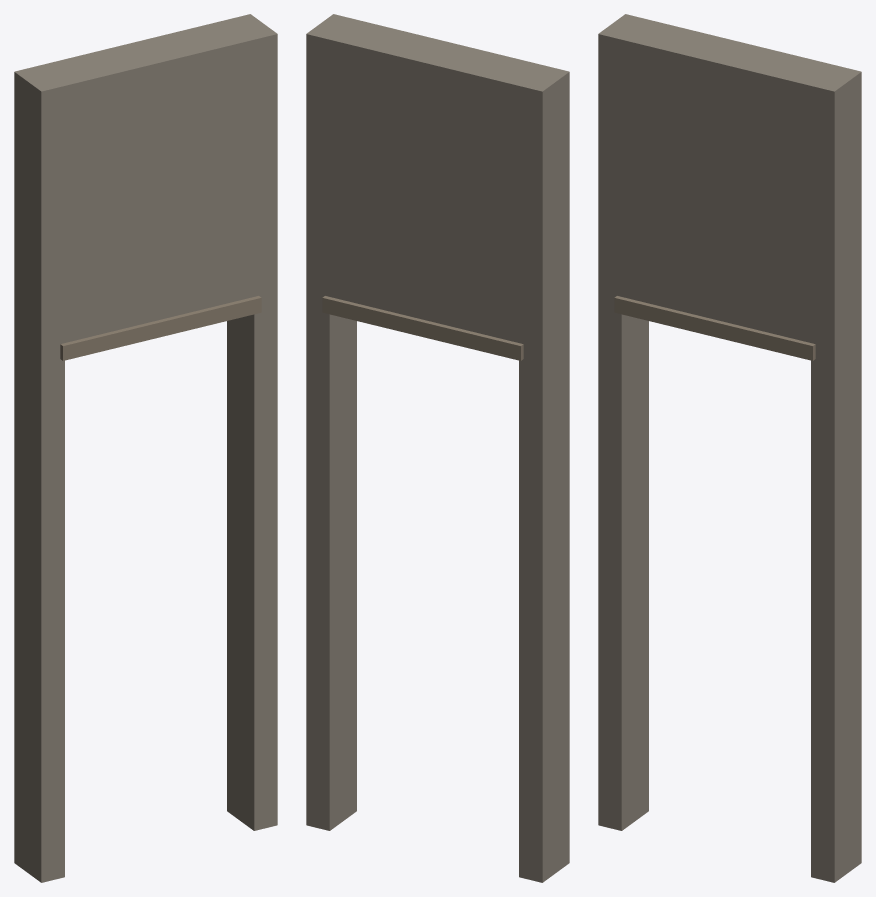
File: interior_doorway.glb
3 renders of one model, left to right at view 1: azimuth 30°, elevation 25°; view 2: azimuth 150°, elevation 25°; view 3: azimuth 330°, elevation 25°, orthographic.
Visible parts, largest first — view 1: interior_doorway; view 2: interior_doorway; view 3: interior_doorway.
Boxes of the visible parts, bbox=[...] form: interior_doorway: bbox=[14, 14, 277, 882]; interior_doorway: bbox=[306, 14, 569, 882]; interior_doorway: bbox=[598, 14, 861, 882].
Bounding box in the file's own units: 1 × 3.2 × 0.24.
